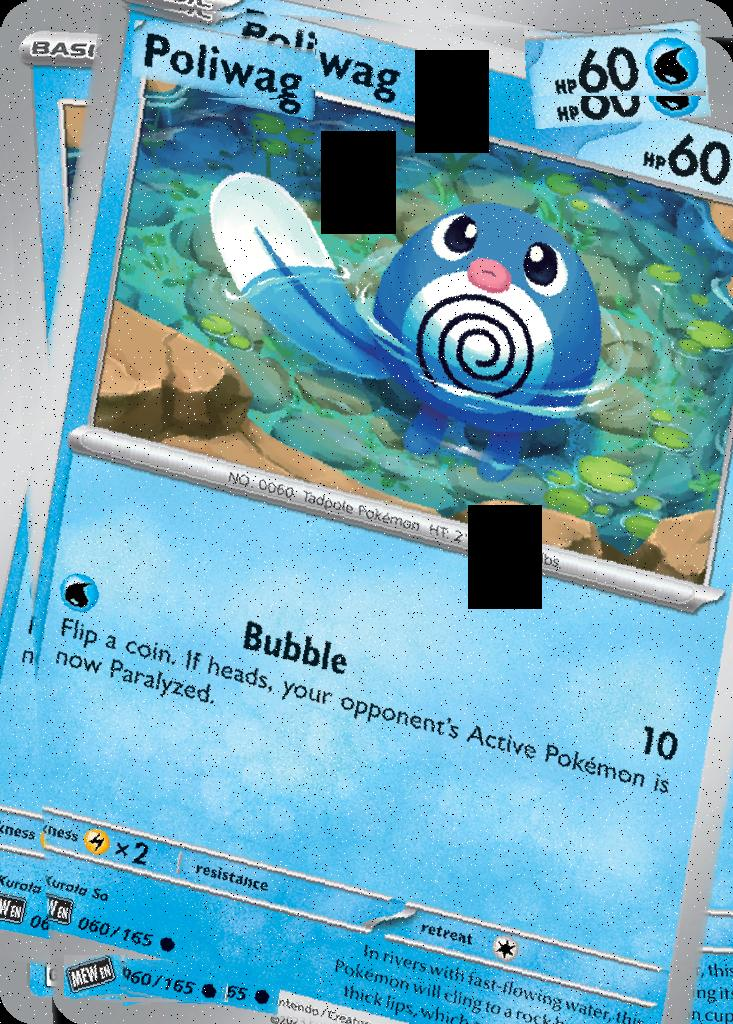card: (0, 0, 733, 1024)
hp: (524, 21, 706, 96)
name: (130, 20, 316, 98)
set num: (122, 958, 230, 1002)
set symbol: (64, 955, 127, 999)
